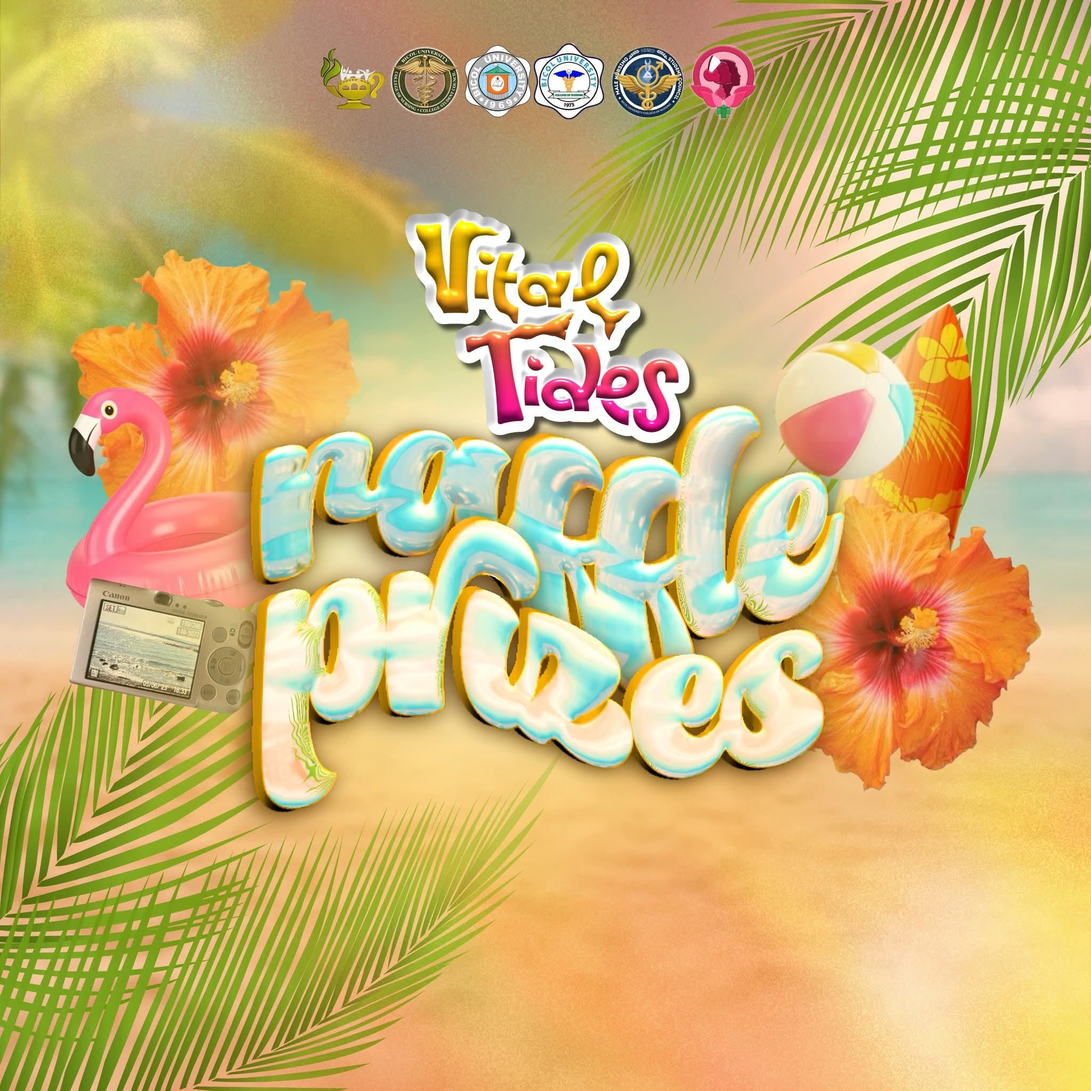embellishment: (761, 494, 1042, 788), (68, 575, 260, 717)
logo: (532, 39, 608, 122), (460, 42, 535, 120), (613, 43, 688, 119), (690, 41, 759, 121), (390, 42, 463, 116), (317, 44, 388, 115)
text: (247, 400, 846, 817), (398, 202, 697, 451)
